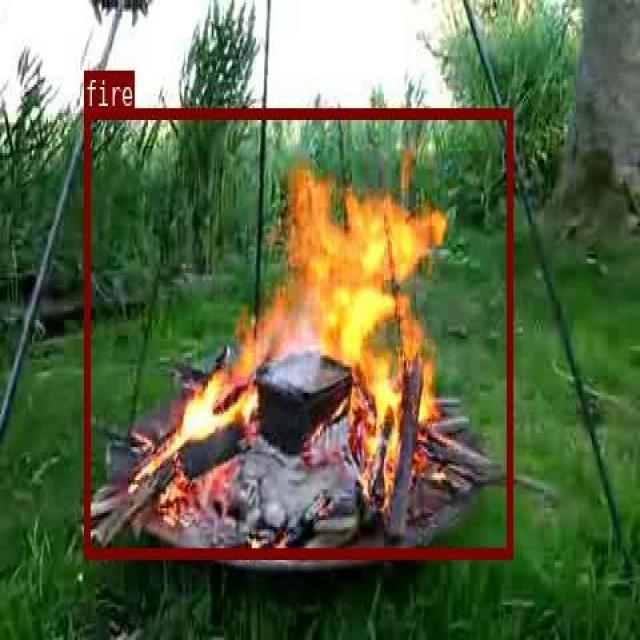fire: (84, 108, 511, 557)
